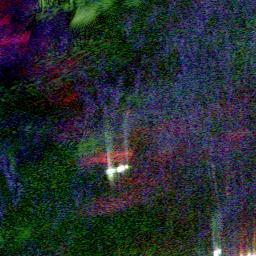Ship: (105, 165, 129, 175), (210, 244, 224, 254)
